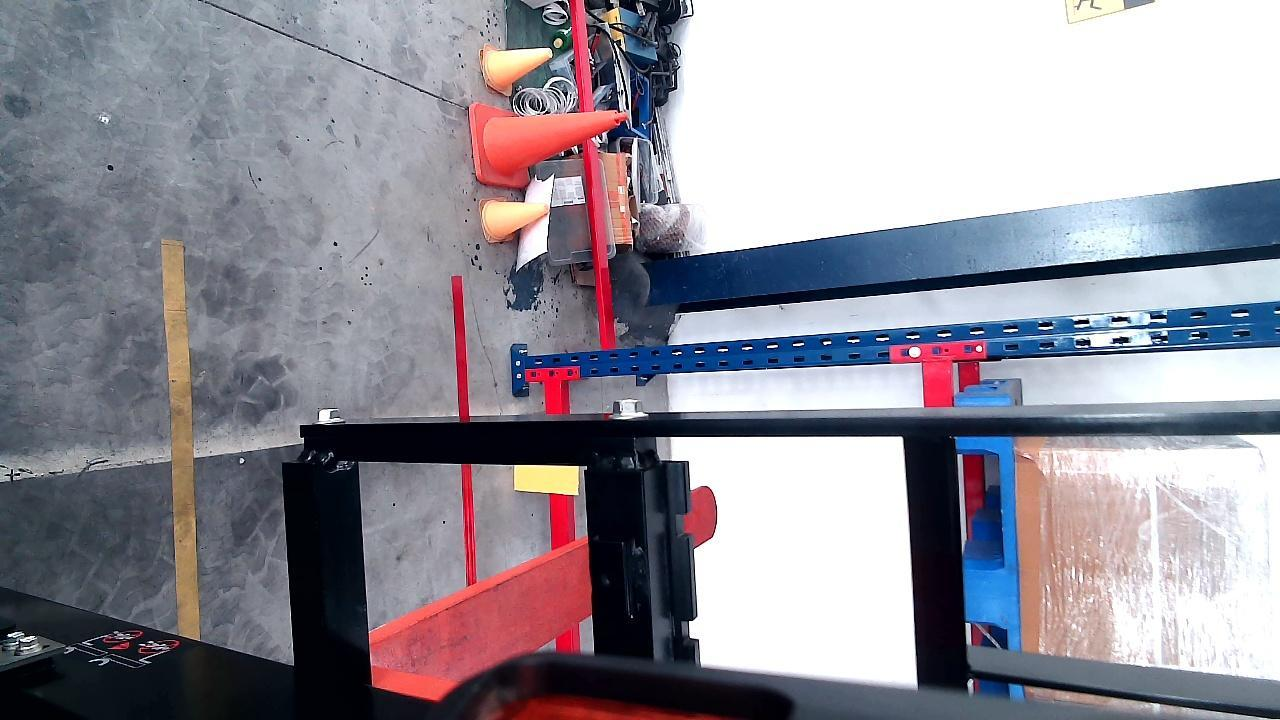red_line: (450, 275, 480, 588)
yellow_line: (162, 236, 199, 639)
